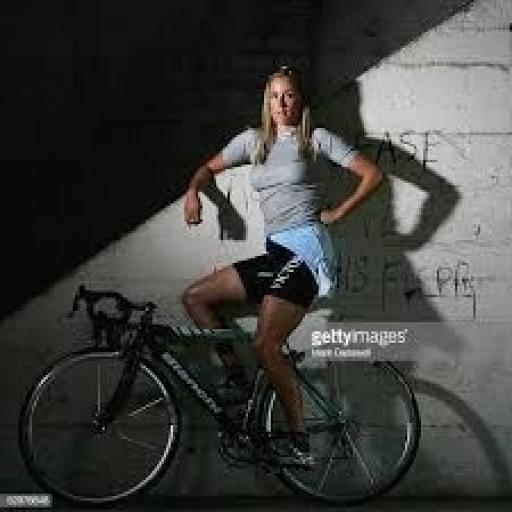cycling: (178, 62, 389, 471)
